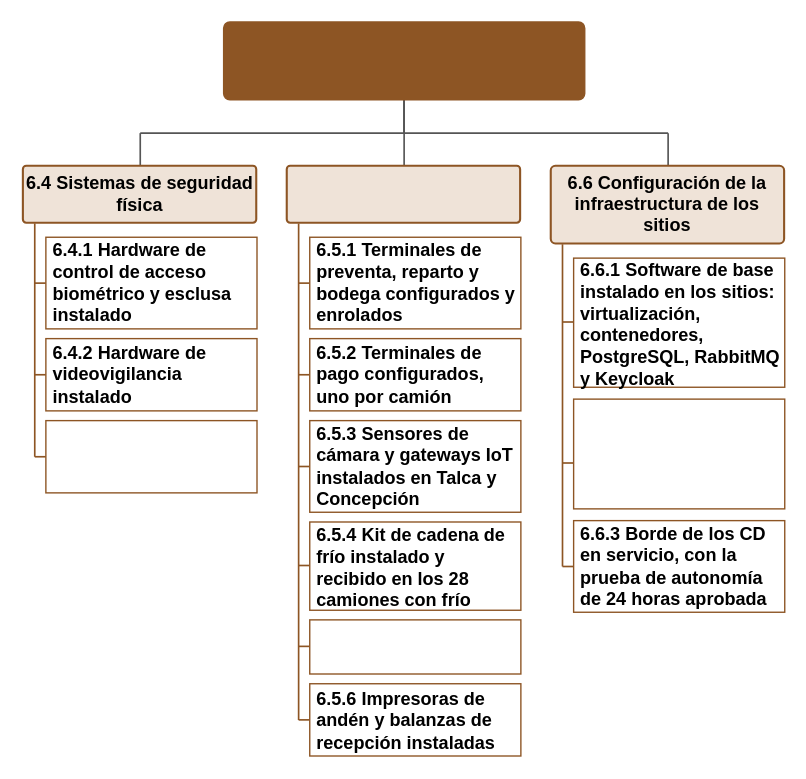
Image size: 806x779. Some labels were removed from this diagram. The centre of each missing label's shape, as x and y in pixels:
"6. Infraestructura física y sitios" belongs at (403,60).
"6.4.3 Recinto de custodia de respaldos habilitado" belongs at (150,456).
"6.5 Equipamiento de campo" belongs at (403,193).
"6.5.5 Impresoras de cabina instaladas" belongs at (414,646).
"6.6.2 Enlaces de fibra, LTE y Starlink habilitados, con conmutación al respaldo" belongs at (678,453).
